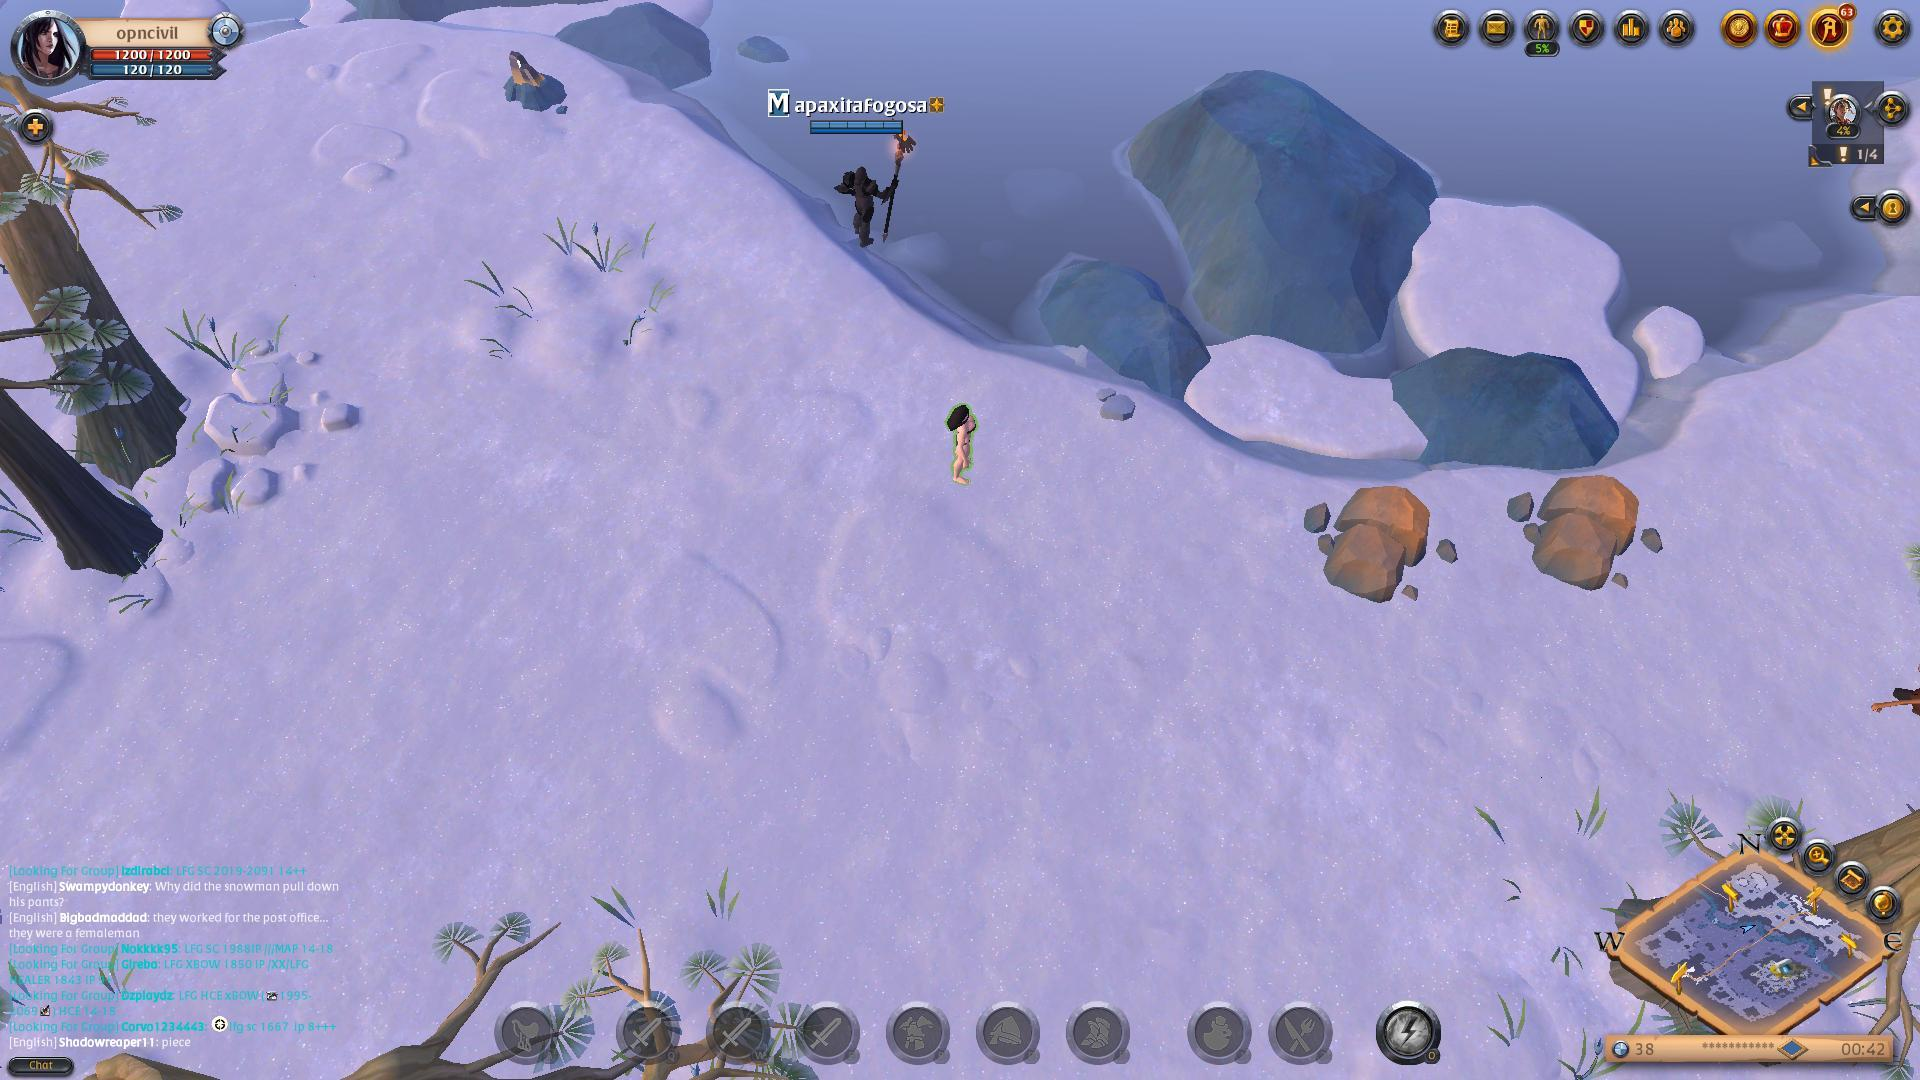copper_ore: (484, 51, 578, 117)
limestone: (1294, 477, 1457, 608), (1506, 465, 1652, 593)
